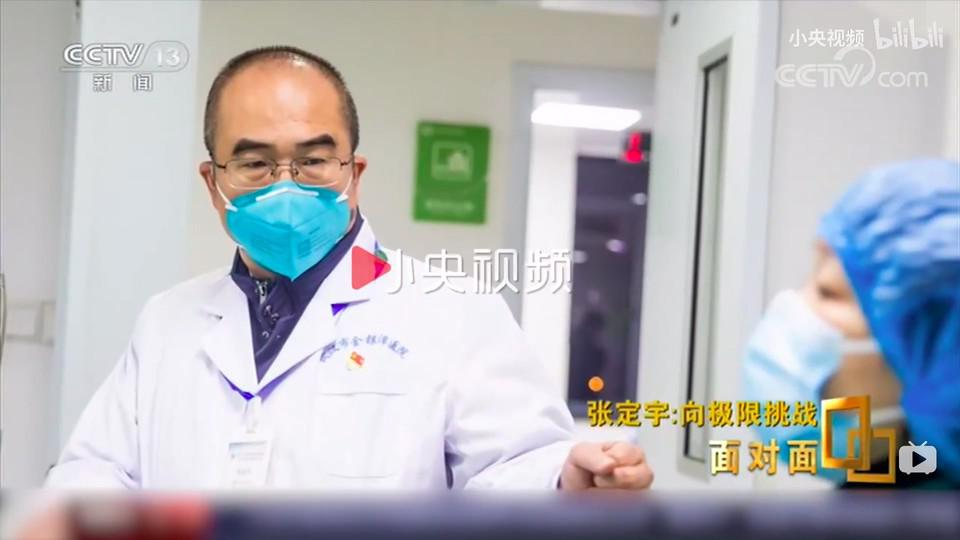OK: (740, 227, 892, 489), (211, 113, 356, 271)
